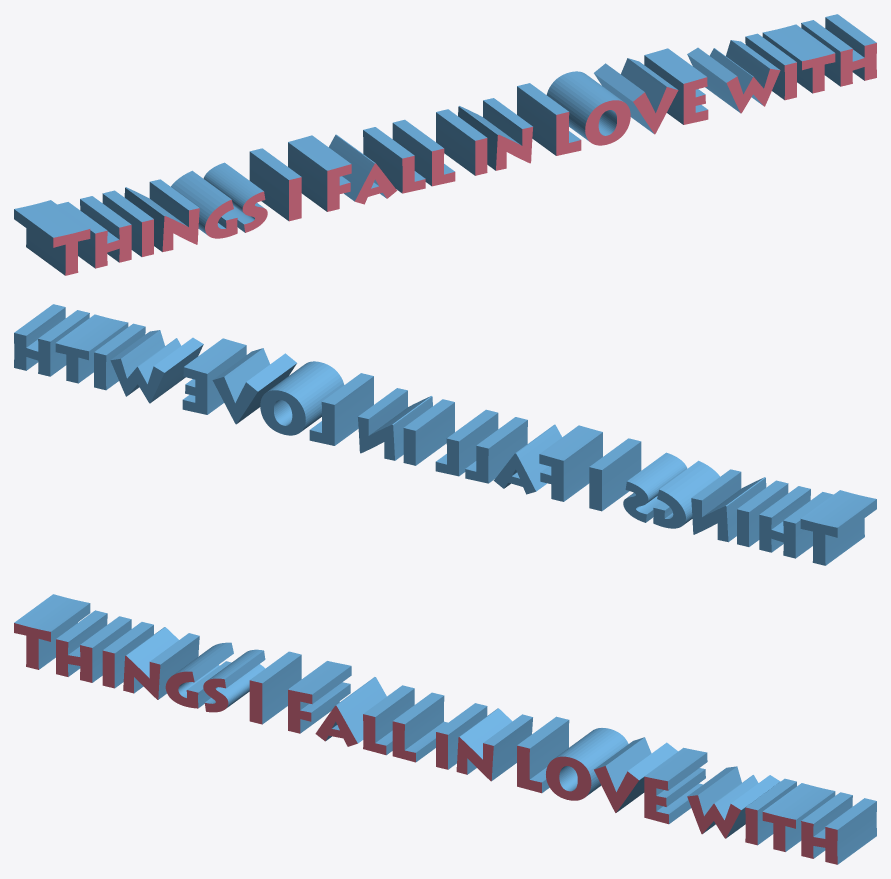
The model's file is things_gltf.glb.
The picture shows the model from 3 angles, top to bottom: view 1: azimuth 30°, elevation 25°; view 2: azimuth 150°, elevation 25°; view 3: azimuth 330°, elevation 25°; orthographic projection.
Parts seen in each view (by area): view 1: Text; view 2: Text; view 3: Text.
Part boxes in pixels (box(x1,y1,x2,y2)): Text: box(14, 14, 876, 275); Text: box(14, 304, 876, 565); Text: box(14, 594, 876, 864).
Size of the model in its own units: 11.52 by 0.6005 by 0.9531.
